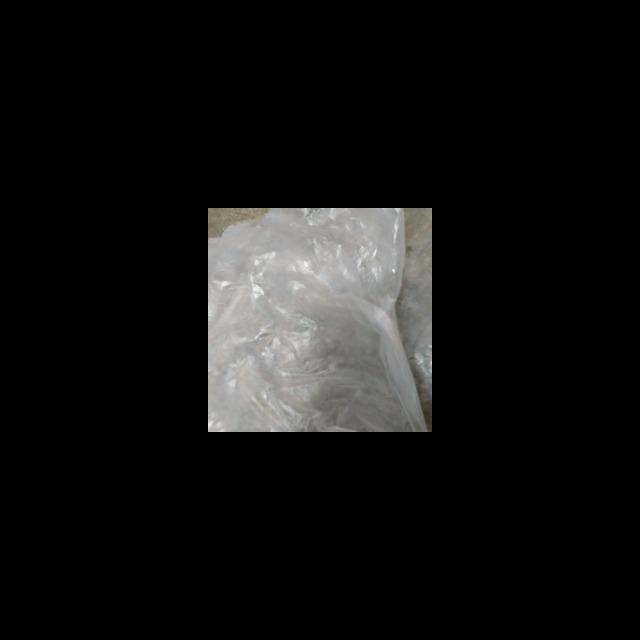plastic: (208, 208, 431, 431)
